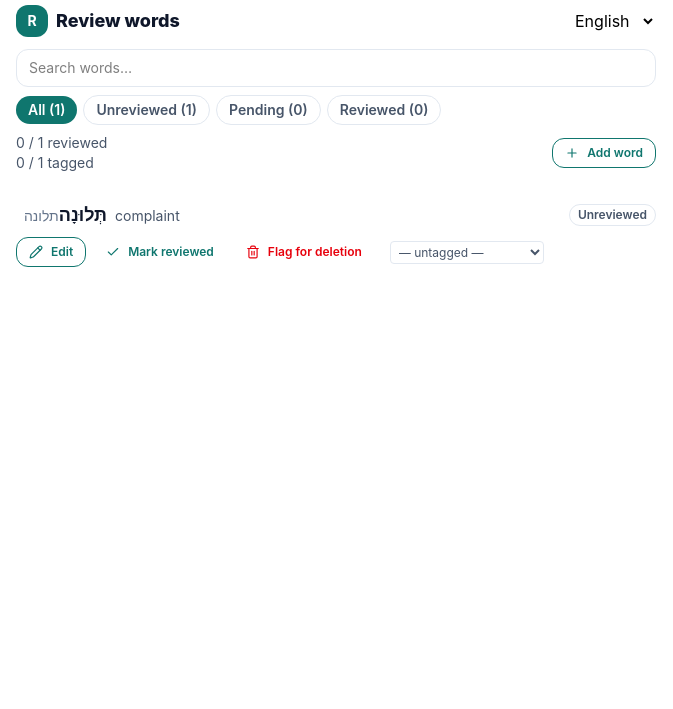
Test case: AdminDictionaryPage › an approver saves & applies in one step
Expected: the text "תְּלוּנָה" is shown, [59,204,107,225]
Click the button "Edit": [51, 252] box [16,237,86,267]
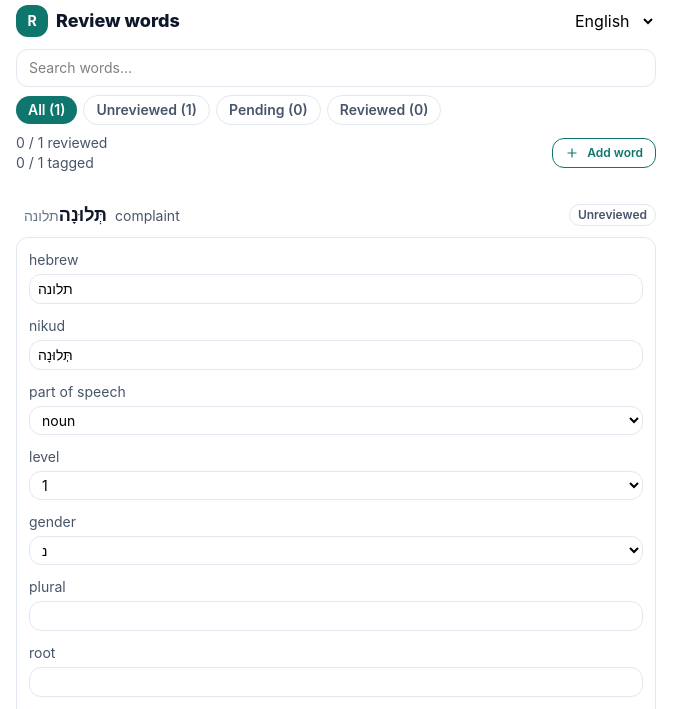
In the field labelled "hebrew": [336, 289] box [29,274,643,304], type "x"
(page scrolled)
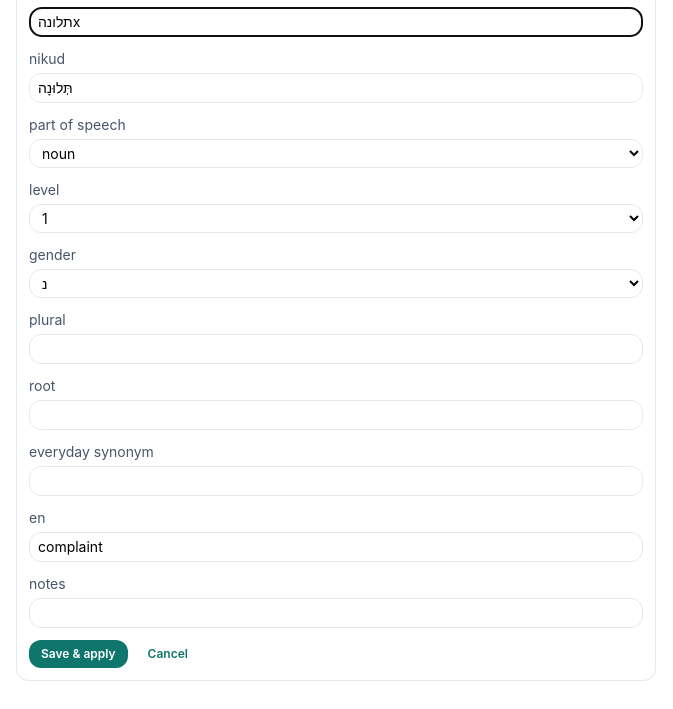
Click the button "Save & apply": [78, 654] box [29,640,128,668]
(page scrolled)
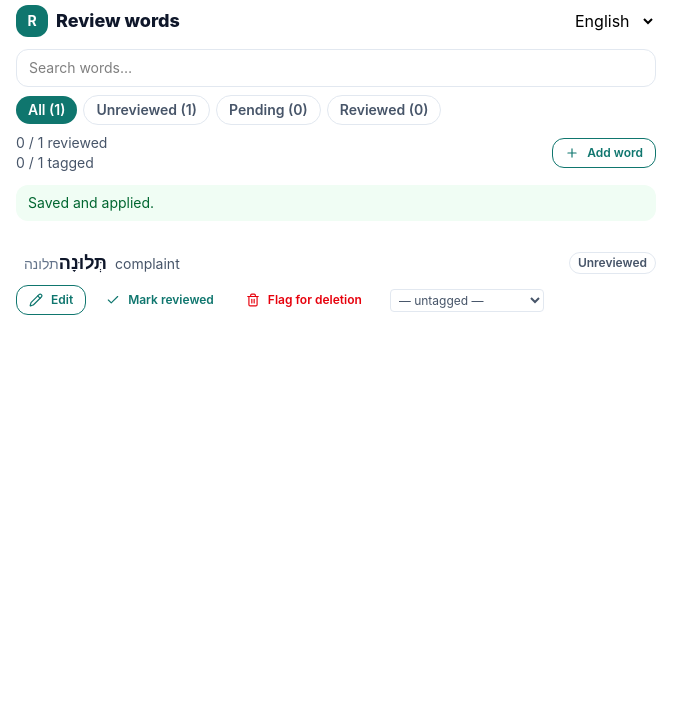
Expected: the message shows "Saved and applied", [28,194,154,211]
